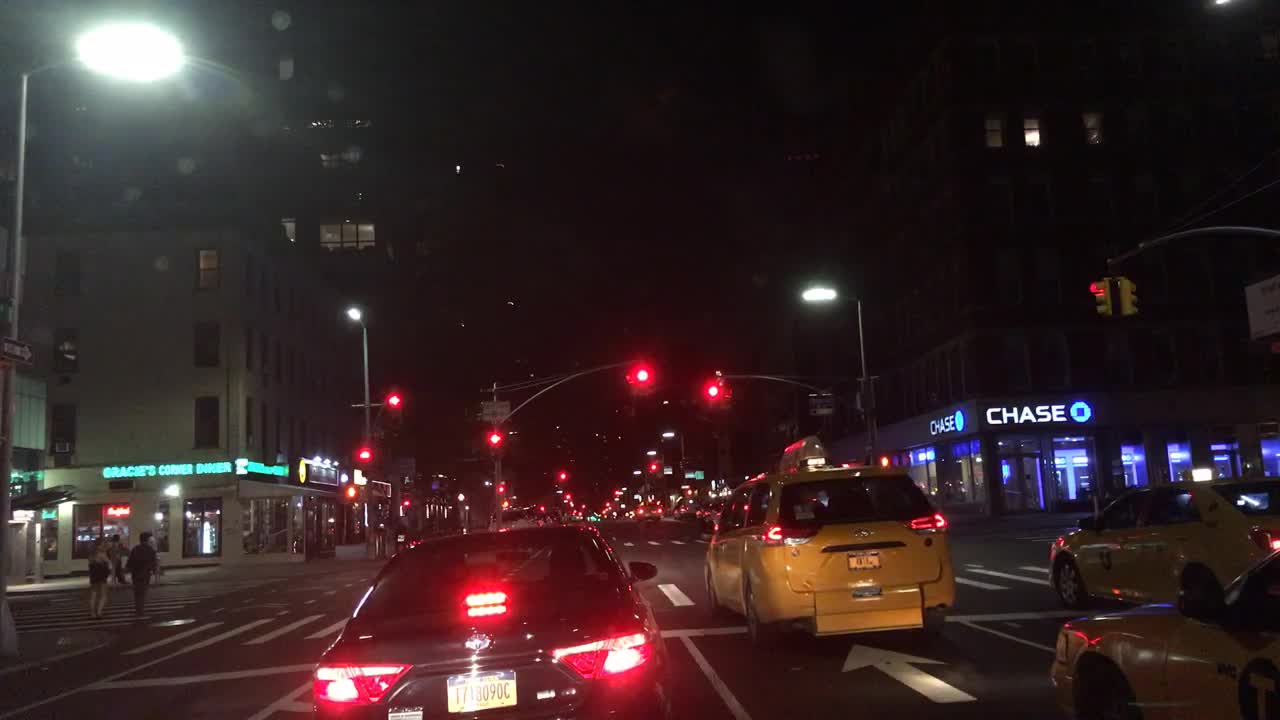car: (305, 519, 669, 718), (696, 437, 957, 654), (1044, 542, 1278, 719), (1038, 465, 1277, 617), (485, 505, 532, 531), (633, 498, 665, 523), (701, 500, 727, 529), (670, 495, 698, 520), (693, 499, 714, 520)
person: (117, 528, 164, 613), (83, 532, 121, 618), (140, 527, 166, 587), (105, 531, 131, 587)
traffic light: (1117, 272, 1140, 318), (1088, 279, 1113, 316), (704, 375, 721, 411), (388, 392, 403, 429), (635, 365, 651, 396), (356, 441, 372, 464), (488, 431, 501, 459), (721, 382, 733, 409), (345, 484, 356, 498), (495, 483, 505, 496), (401, 499, 411, 508), (500, 499, 509, 508), (560, 470, 566, 482), (684, 489, 693, 497), (650, 461, 656, 472), (564, 493, 570, 499), (635, 358, 636, 363)
traffic sign: (0, 333, 34, 368), (807, 392, 836, 418), (479, 397, 512, 419), (694, 469, 704, 480), (682, 471, 696, 478), (662, 465, 672, 474), (680, 484, 690, 489)
